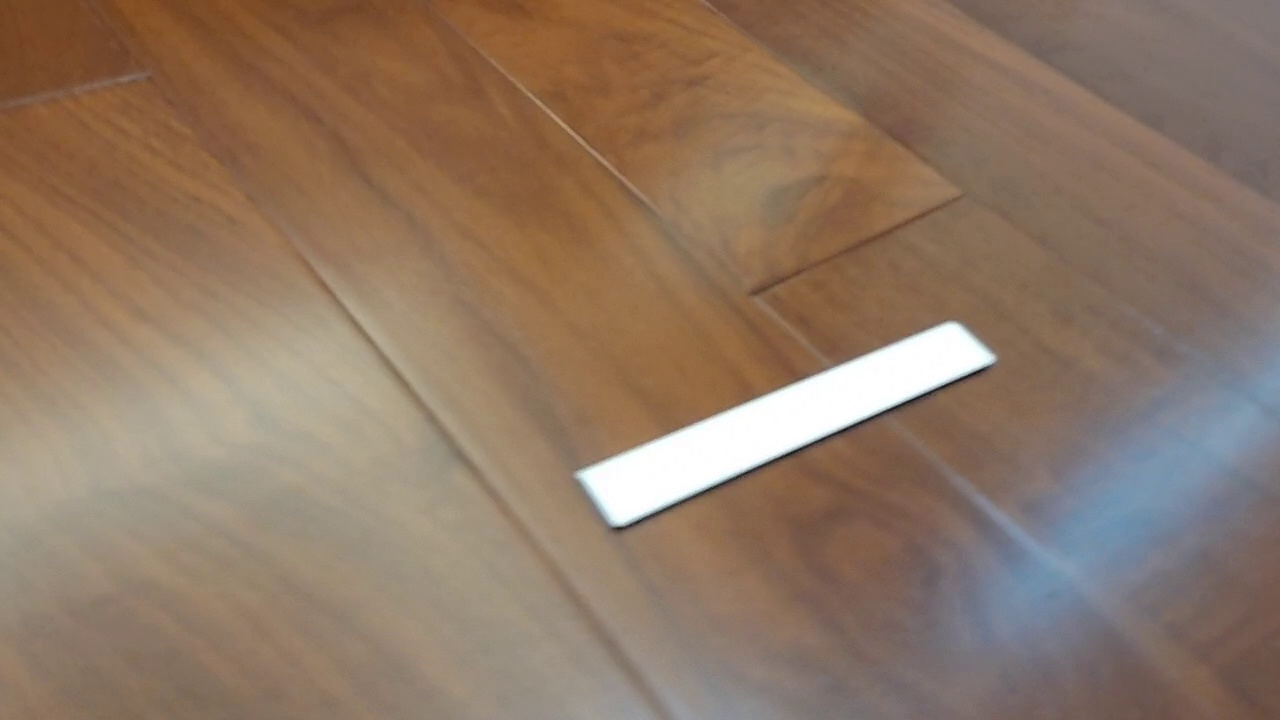ruler: (571, 318, 1000, 533)
